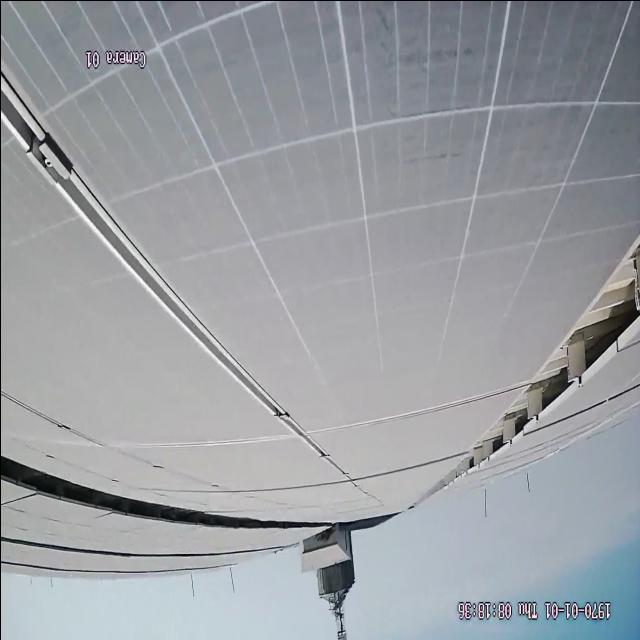interior panel: (1, 74, 341, 466)
outher panel: (429, 244, 640, 496), (1, 452, 284, 528)
